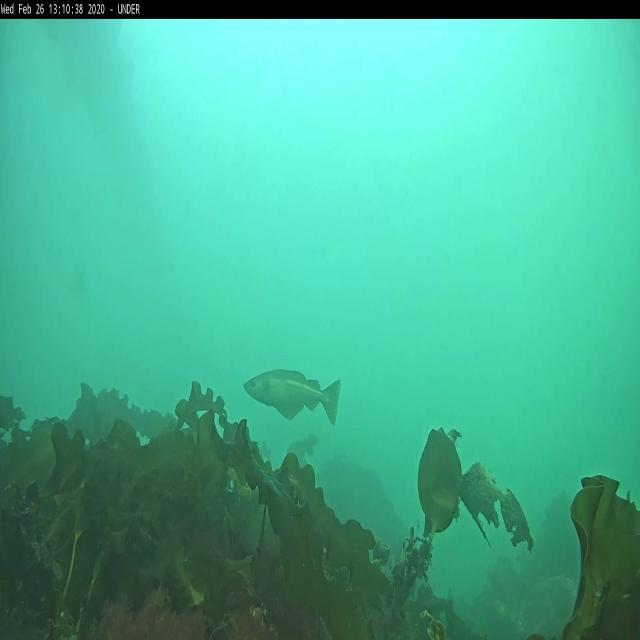fish: (244, 368, 342, 428)
